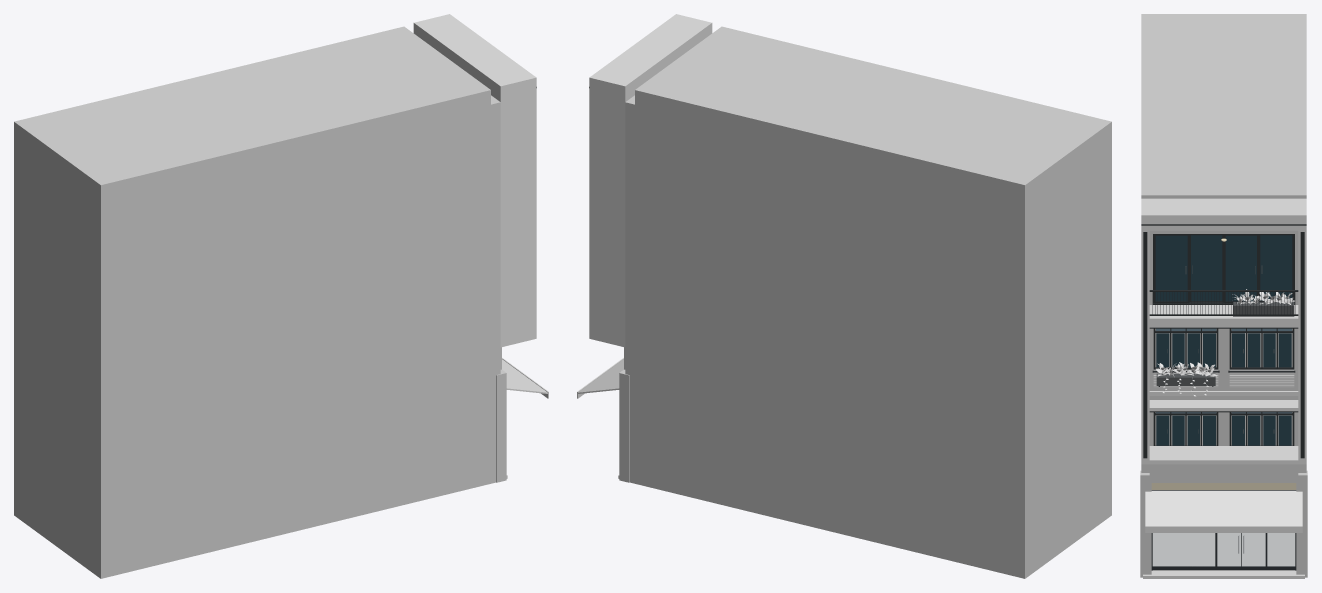
File: OW_Mau_NhaPho_6_0_1_B.fbx
The picture shows the model from 3 angles, left to right: view 1: azimuth 30°, elevation 25°; view 2: azimuth 150°, elevation 25°; view 3: azimuth 270°, elevation 25°; orthographic projection. The views are drawn at different scales.
Visible parts, largest first — view 1: OW_NhaPho_9027; view 2: OW_NhaPho_9027; view 3: OW_NhaPho_9027, OW_MatTienKinh.
Part boxes in pixels (x1=…): OW_NhaPho_9027: x1=14, y1=14, x2=548, y2=578; OW_NhaPho_9027: x1=577, y1=14, x2=1111, y2=578; OW_NhaPho_9027: x1=1140, y1=14, x2=1307, y2=578; OW_MatTienKinh: x1=1151, y1=483, x2=1296, y2=570.
Bounding box in the file's own units: 17.77 × 14.9 × 6.
